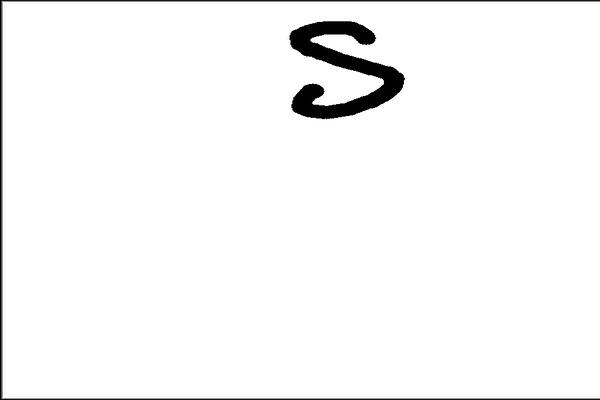S: (282, 10, 411, 124)
